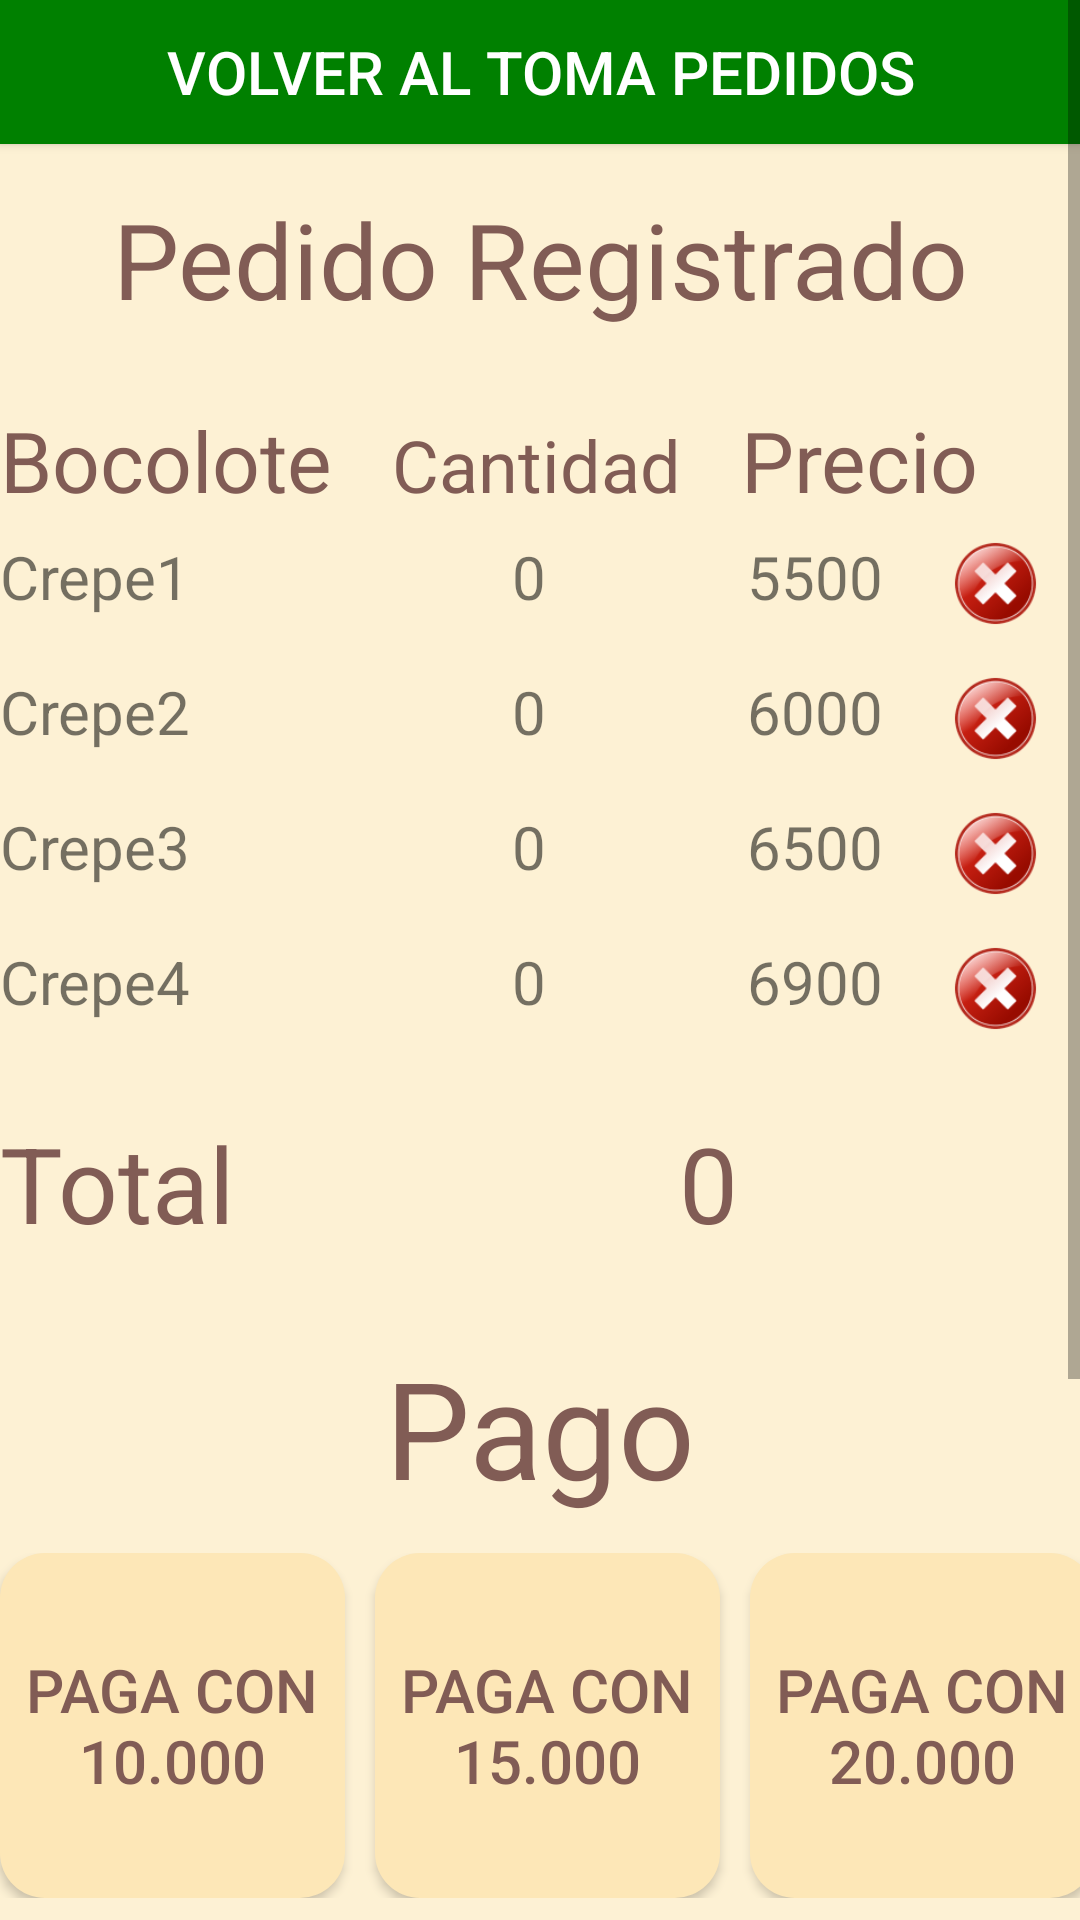

Icons on this 1080w x 1920h Android screen, each with the point to tap as [x,y]:
delete: [995,583], [995,718], [995,853], [995,988]
